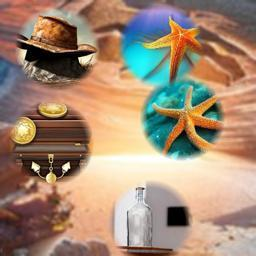not an animal: (17, 12, 99, 73), (116, 182, 174, 254)
treasure: (9, 101, 92, 182)
